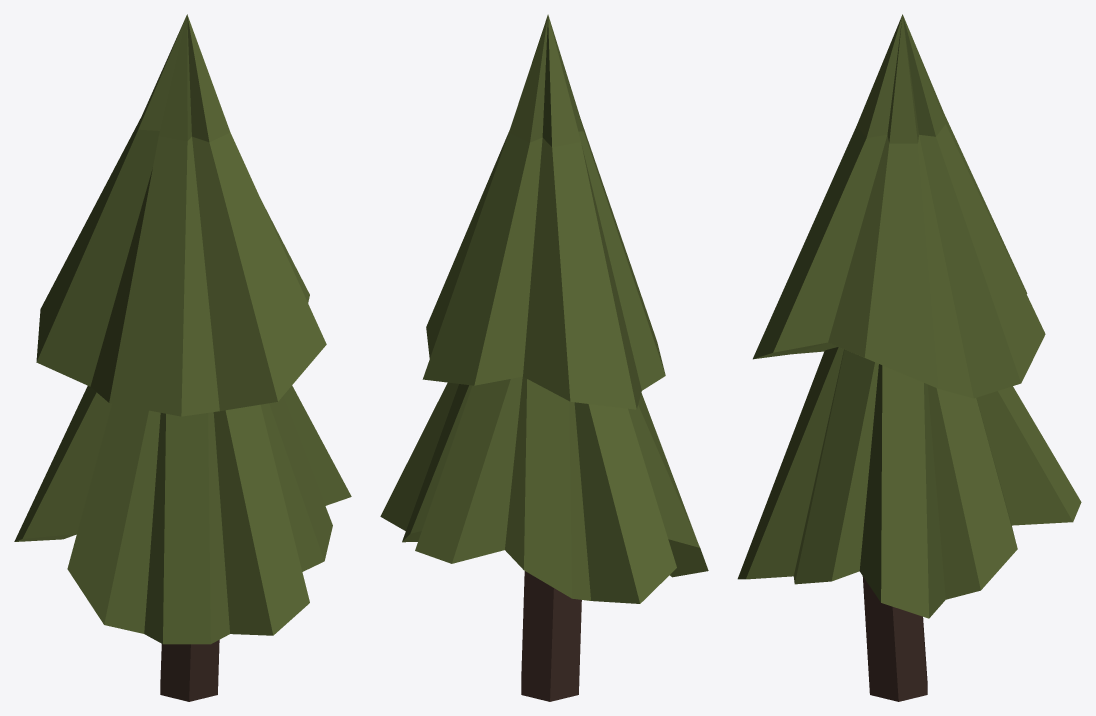
The model's file is Tree Type2 02.glb.
3 views of the same model, side by side, from view 1: azimuth 30°, elevation 25°; view 2: azimuth 150°, elevation 25°; view 3: azimuth 270°, elevation 25° (orthographic).
Parts seen in each view (by area): view 1: Tree_Type2_02_mesh; view 2: Tree_Type2_02_mesh; view 3: Tree_Type2_02_mesh.
Part boxes in pixels (x1=…): Tree_Type2_02_mesh: x1=14, y1=14, x2=351, y2=701; Tree_Type2_02_mesh: x1=380, y1=14, x2=708, y2=701; Tree_Type2_02_mesh: x1=737, y1=14, x2=1081, y2=701.
Size of the model in its own units: 1.41 by 3.03 by 1.4.
1 material, 1 textured.
